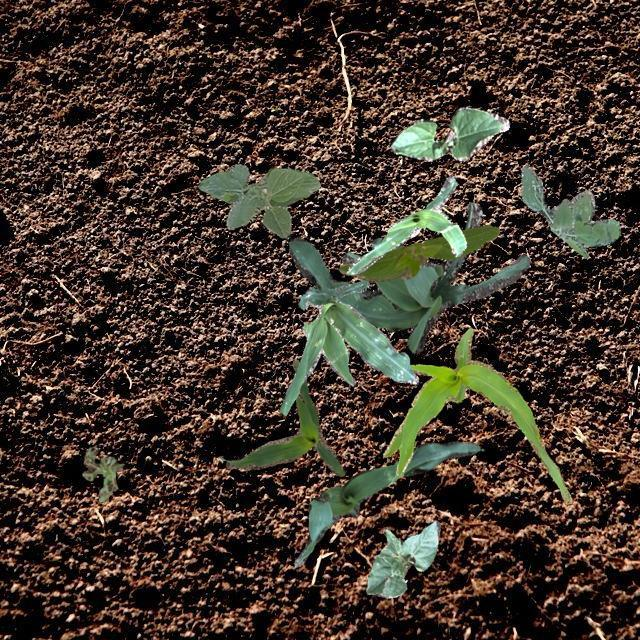crop: (288, 202, 530, 352), (382, 327, 570, 502), (294, 441, 478, 566), (280, 280, 418, 414), (224, 358, 344, 476), (346, 175, 466, 274), (337, 223, 498, 280), (198, 162, 318, 236), (389, 106, 508, 160), (364, 520, 440, 596)
weed: (520, 165, 620, 256), (81, 444, 122, 502)
